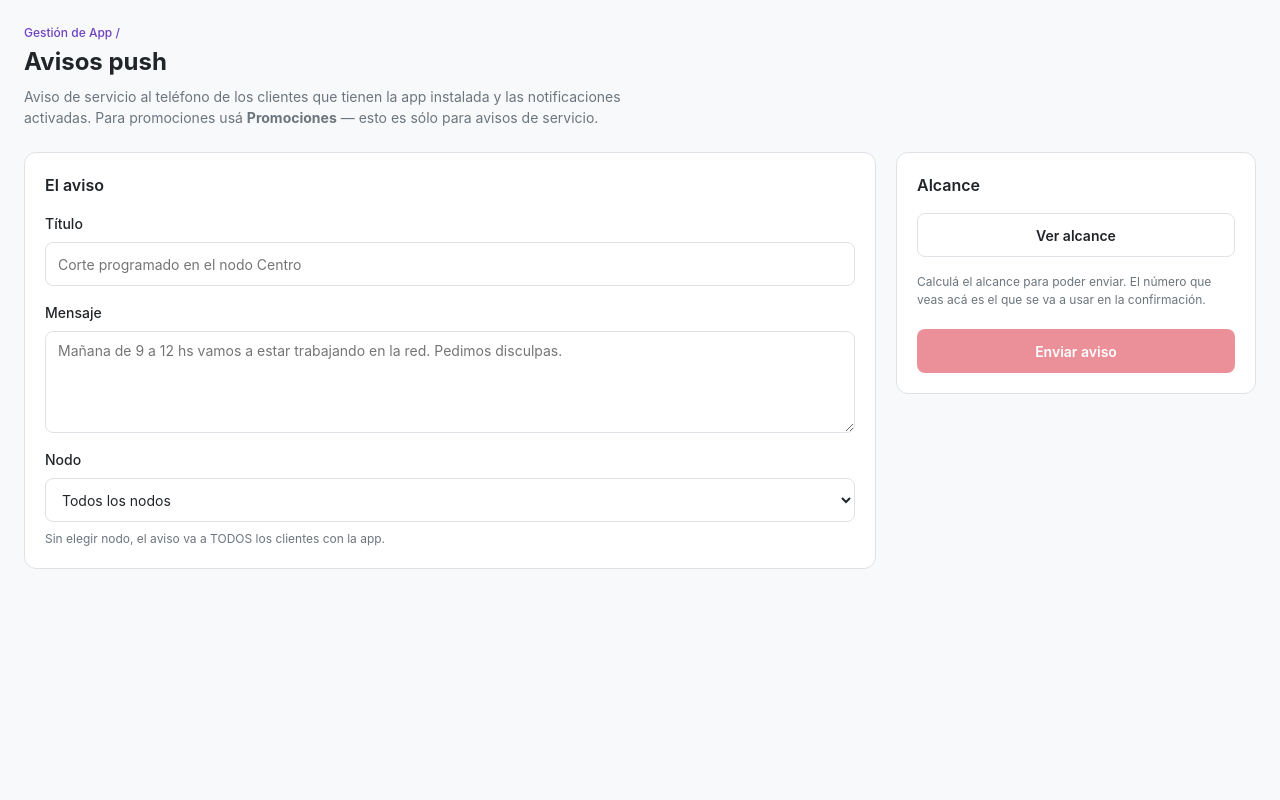
Scenario: PP-3: el alcance caduca al cambiar el filtro › cambiar el nodo vuelve a deshabilitar Enviar
The width and height of the screenshot is (1280, 800).
Type "Corte programado" into the field labelled "Título". click: [450, 264]
box: [45, 242, 855, 286]
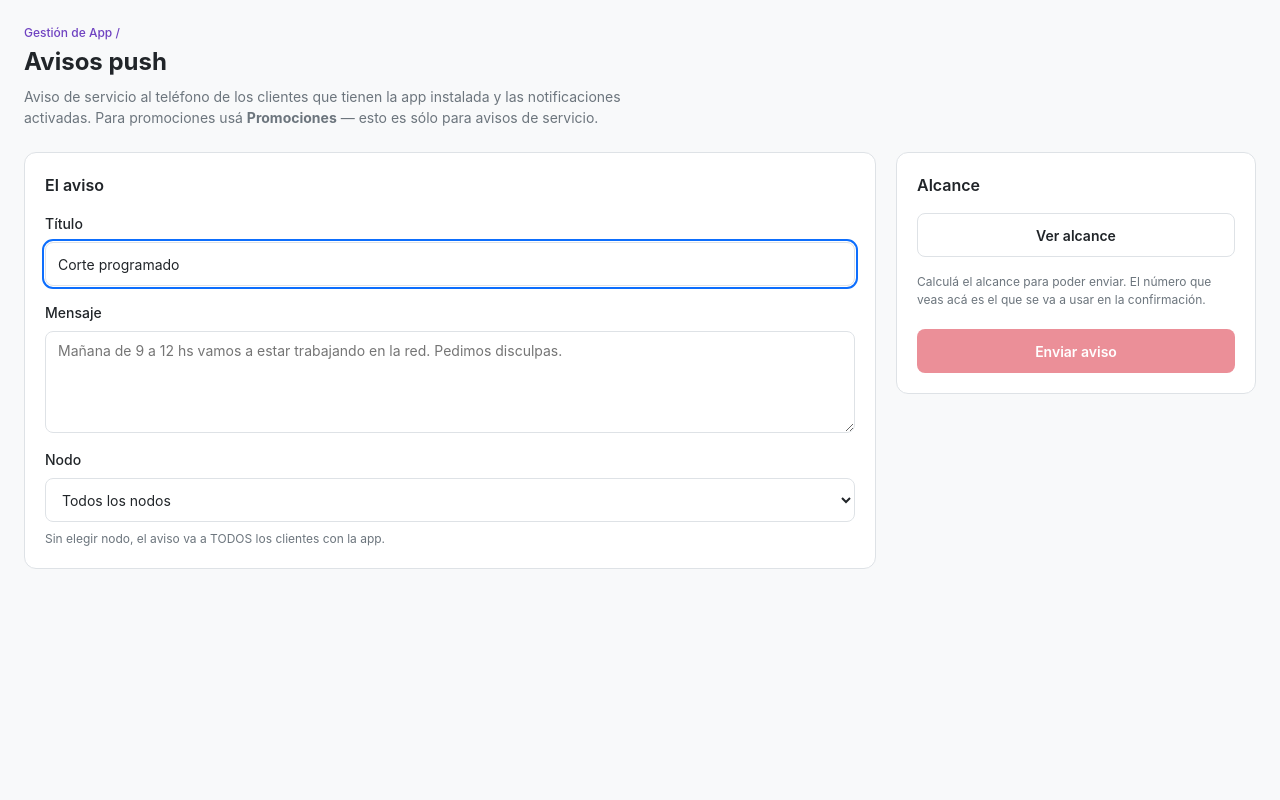
Type "Mañana de 9 a 12 hs." into the text box labelled "Mensaje". click: [450, 382]
box: [45, 331, 855, 433]
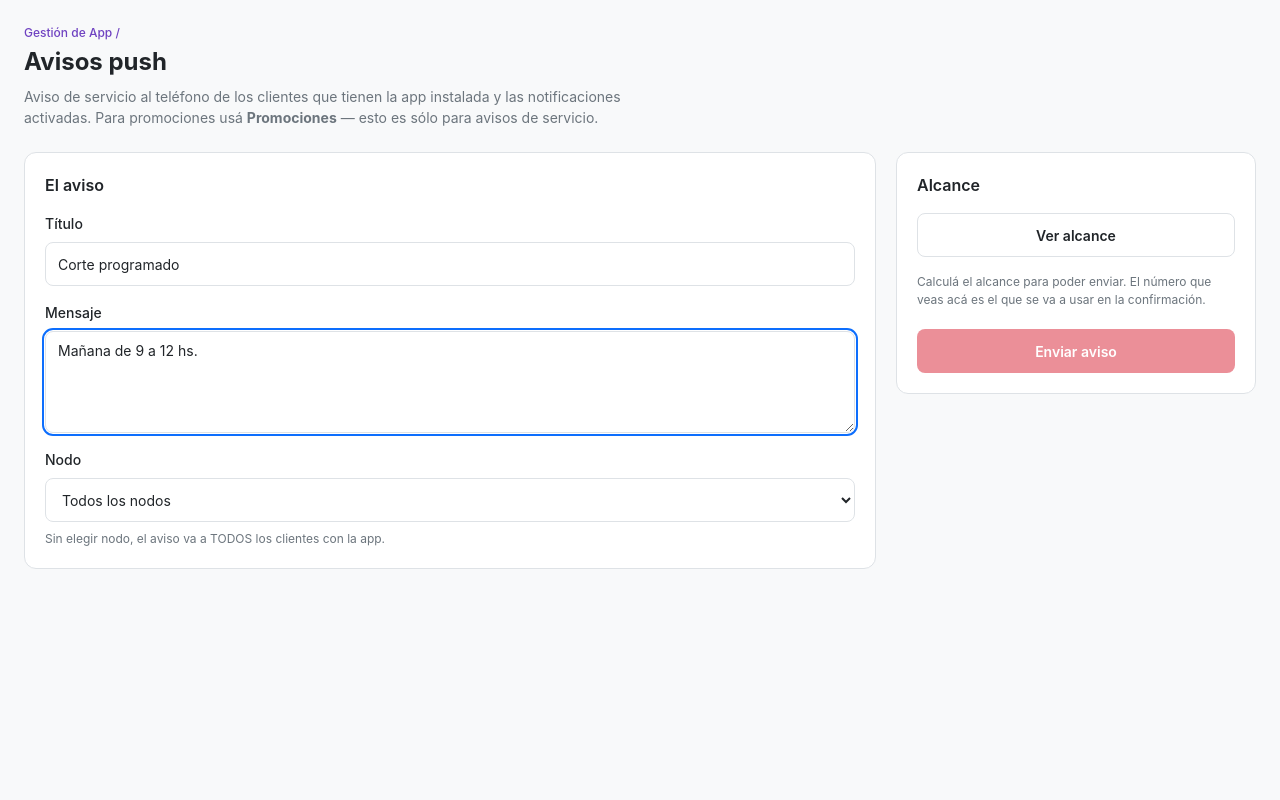
Click the button "Ver alcance". click: [1076, 235]
box: [917, 213, 1235, 257]
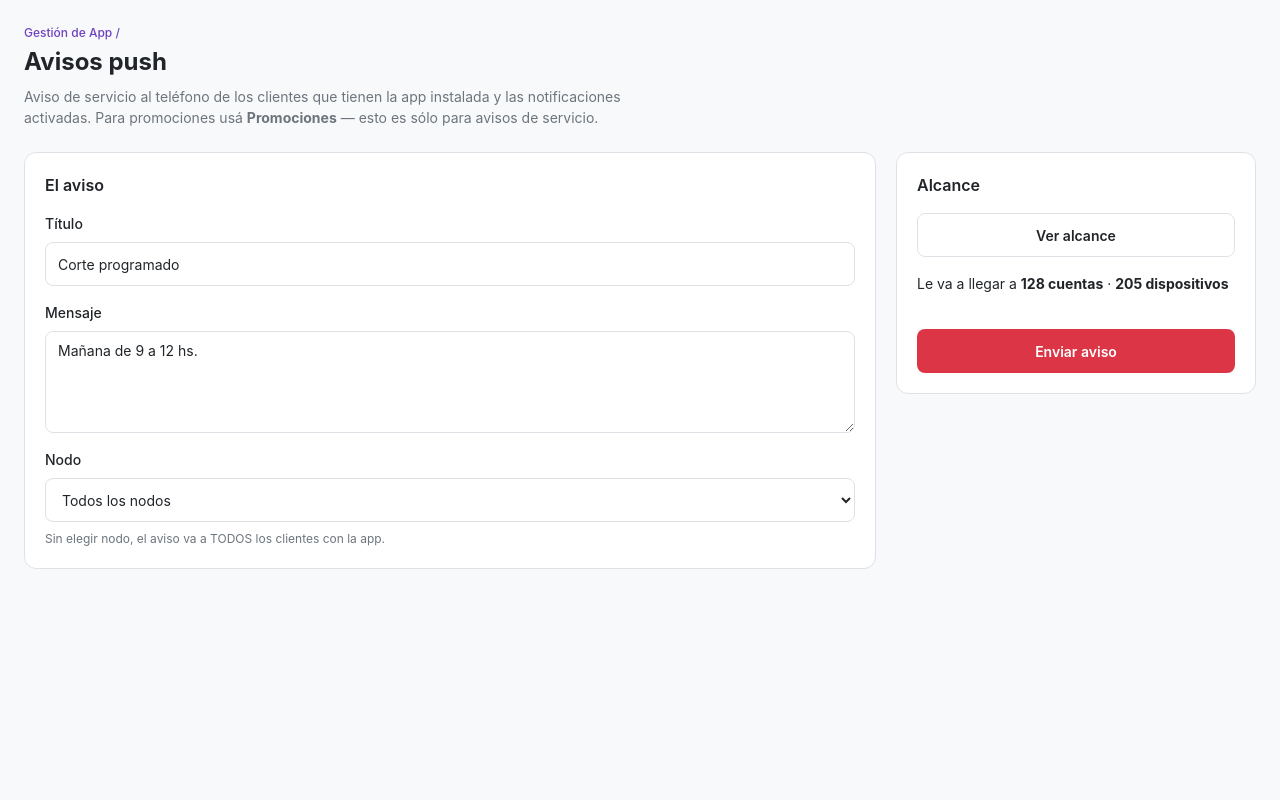
expect the button "Enviar aviso" is enabled: met, box [917, 329, 1235, 373]
Select "Nodo Norte" in the dropdown labelled "Nodo". click: [450, 500]
box: [45, 478, 855, 522]
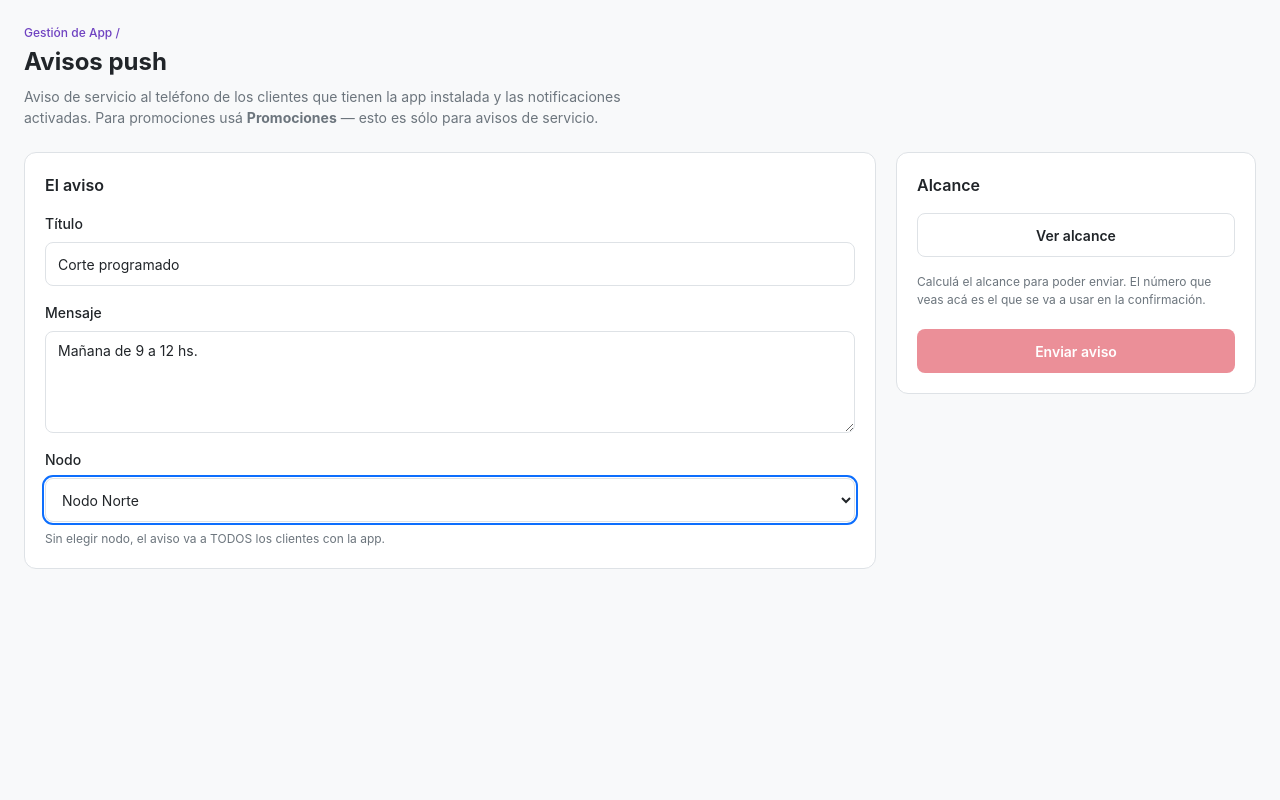
expect the button "Enviar aviso" is disabled: met, box [917, 329, 1235, 373]
